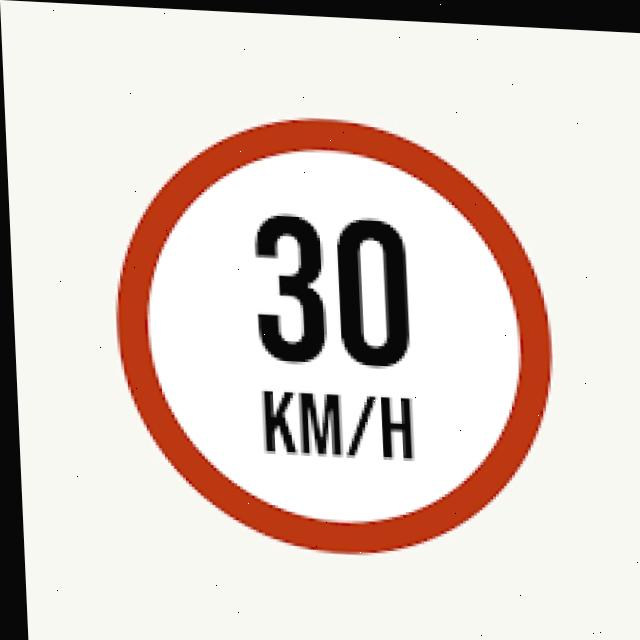Speed limit 30: (99, 103, 561, 565)
